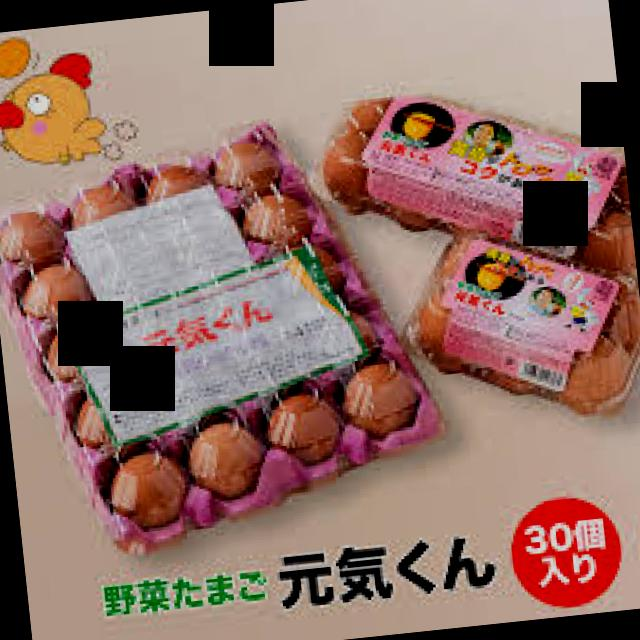egg: (0, 123, 445, 558), (320, 96, 637, 274), (410, 233, 640, 420)
